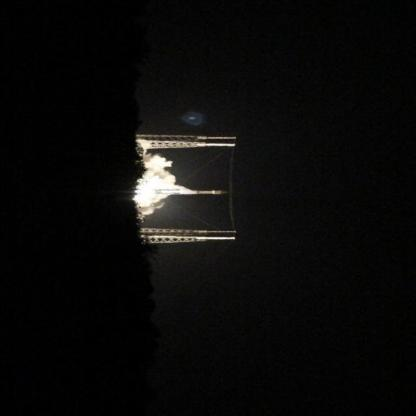MIL_TBM: (187, 190, 231, 195)
